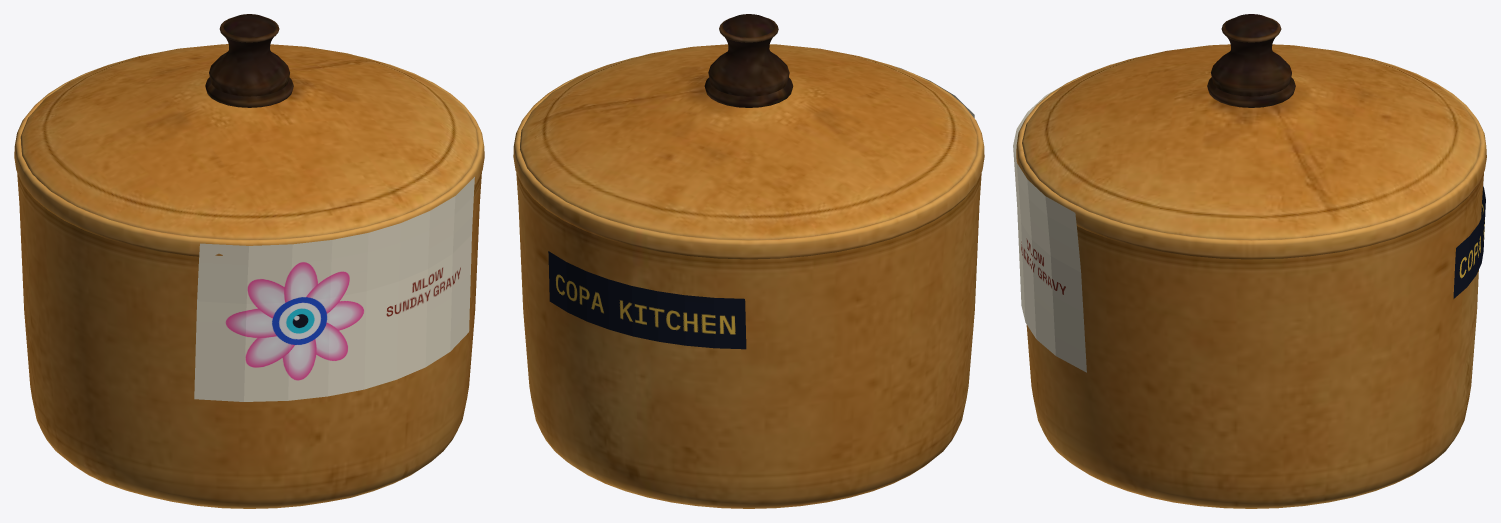
File: nyb_copa_gravy.glb
3 renders of one model, left to right at view 1: azimuth 30°, elevation 25°; view 2: azimuth 150°, elevation 25°; view 3: azimuth 270°, elevation 25°, orthographic.
Visible parts, largest first — view 1: brass_pot_01, stk_lbl_1e31e2be81.png; view 2: brass_pot_01, stk_lbl_b13b0171b3.png; view 3: brass_pot_01, stk_lbl_1e31e2be81.png, stk_lbl_b13b0171b3.png.
Part boxes in pixels (x1=…): brass_pot_01: x1=14, y1=14, x2=484, y2=508; stk_lbl_1e31e2be81.png: x1=194, y1=177, x2=474, y2=401; brass_pot_01: x1=513, y1=14, x2=984, y2=508; stk_lbl_b13b0171b3.png: x1=548, y1=251, x2=746, y2=349; brass_pot_01: x1=1016, y1=14, x2=1486, y2=508; stk_lbl_1e31e2be81.png: x1=1013, y1=79, x2=1086, y2=372; stk_lbl_b13b0171b3.png: x1=1453, y1=186, x2=1485, y2=298.
Size of the model in its own units: 0.3019 by 0.2909 by 0.3037.
Materials: 3 (3 with a texture image).
